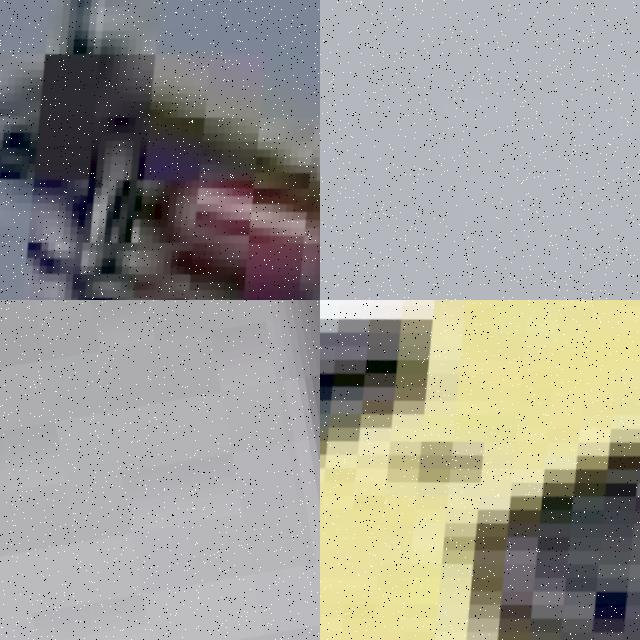drone: (320, 300, 640, 640), (0, 0, 320, 300)
